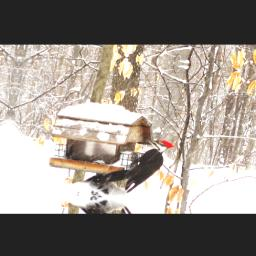Woodpecker: (91, 132, 177, 198)
